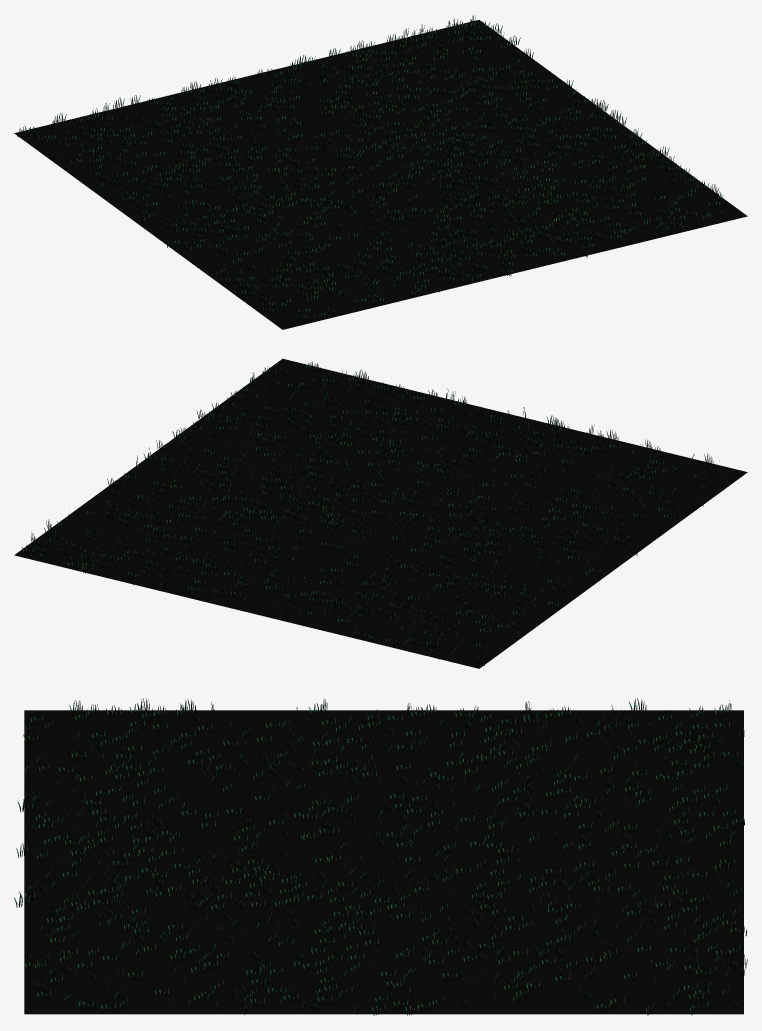
Rendered from Grass.fbx.
The picture shows the model from 3 angles, top to bottom: view 1: azimuth 30°, elevation 25°; view 2: azimuth 150°, elevation 25°; view 3: azimuth 270°, elevation 25°; orthographic projection. The views are drawn at different scales.
Parts seen in each view (by area): view 1: Plane.030; view 2: Plane.030; view 3: Plane.030.
Part boxes in pixels (<box>): Plane.030: <box>14,15,747,329</box>; Plane.030: <box>14,358,747,668</box>; Plane.030: <box>14,698,747,1015</box>.
Bounding box in the file's own units: 3011 × 69.17 × 3023.
